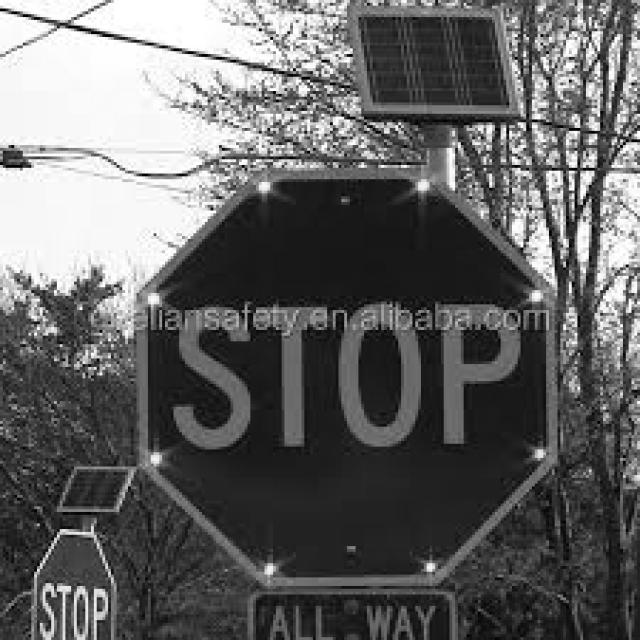stop sign: (142, 176, 559, 636)
